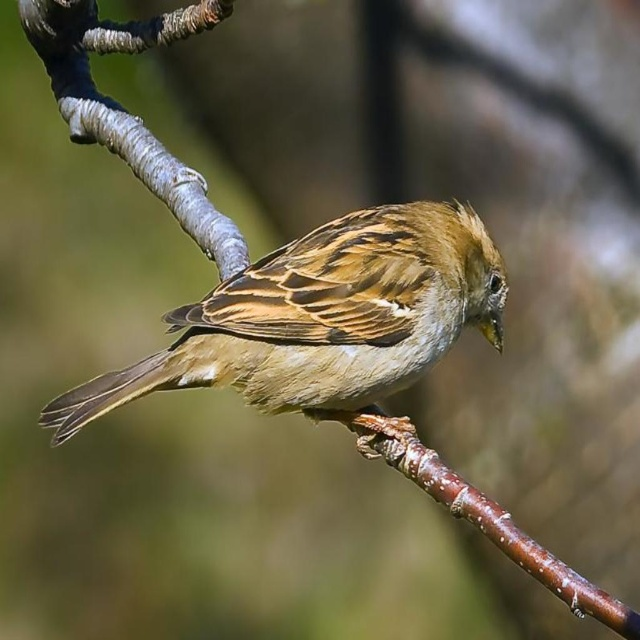Sparrow: (37, 192, 512, 462)
